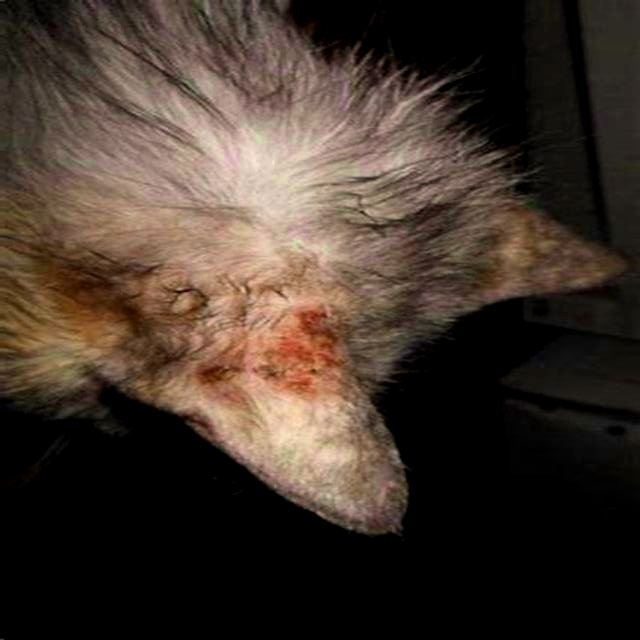ringworm: (195, 302, 341, 394)
